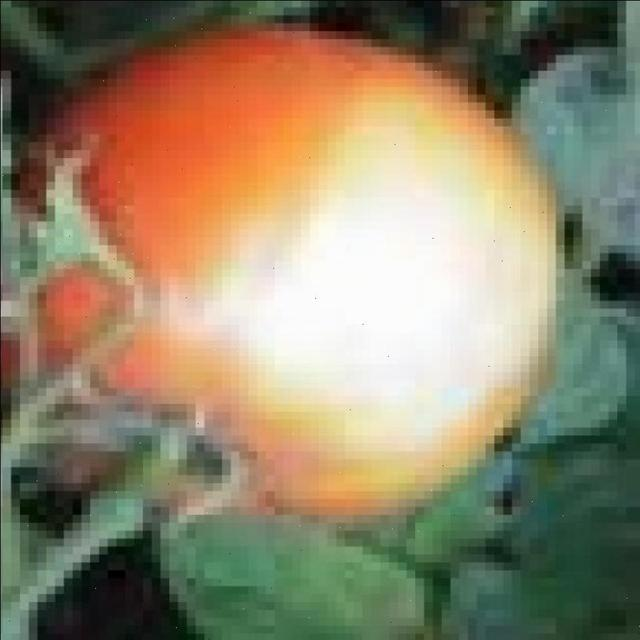Sunscald Fruit: (104, 68, 362, 322)
